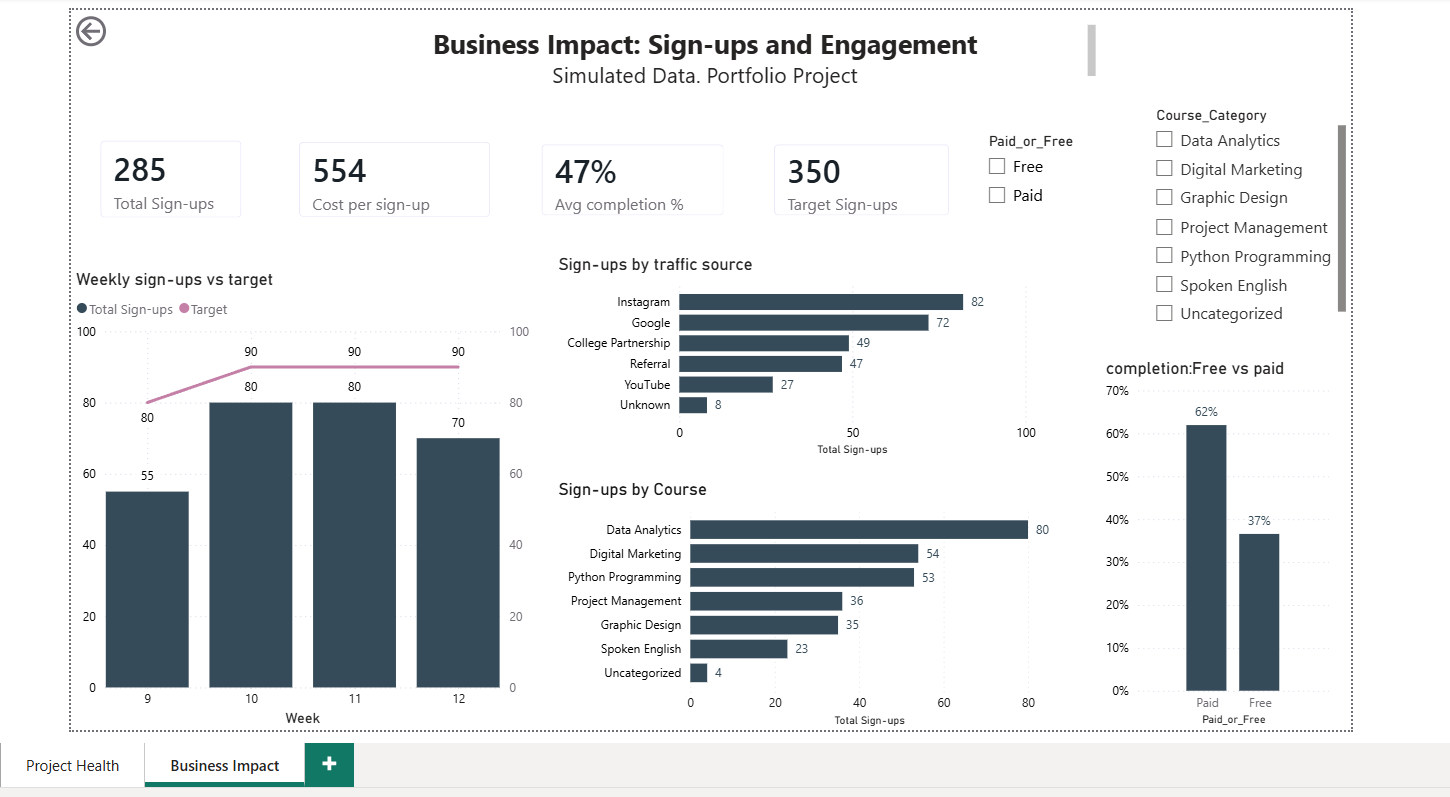

This screenshot's page, from the dashboard's own definition file:
{"tool":"powerbi","page":{"name":"Business Impact","canvas":[1280,720],"ordinal":1},"visuals":[{"type":"textbox","box":[246.2,10,783.8,81.2],"z":0},{"type":"cardVisual","fields":{"Data":["Schedule.Total Sign-ups"]},"box":[12.2,113.4,175.6,111.1],"z":1000},{"type":"cardVisual","fields":{"Data":["Schedule.Cost per sign-up"]},"box":[211.2,114.8,225,109.8],"z":2000},{"type":"cardVisual","fields":{"Data":["Schedule.Avg completion %"]},"box":[454.1,117.5,216.8,105.7],"z":3000},{"type":"cardVisual","fields":{"Data":["Sum(Targets.Target Sign-ups (scaled sample))"]},"box":[686,117.5,209.9,105.7],"z":4000},{"type":"actionButton","box":[-0.1,0.9,100,40],"z":5000},{"type":"lineClusteredColumnComboChart","title":"Weekly sign-ups vs target","fields":{"Category":["Targets.Week"],"Y":["Schedule.Total Sign-ups"],"Y2":["Sum(Targets.Target Sign-ups (scaled sample))"]},"box":[-0.1,258.9,463.8,462.4],"z":6000},{"type":"clusteredBarChart","title":"Sign-ups by traffic source","fields":{"Category":["signups_clean.Traffic_Source"],"Y":["Schedule.Total Sign-ups"]},"box":[482.9,243.8,487.1,207.2],"z":7000},{"type":"clusteredColumnChart","title":"completion:Free vs paid","fields":{"Category":["signups_clean.Paid_or_Free"],"Y":["Schedule.Avg completion %"]},"box":[1030.4,348,233.3,373.2],"z":8000},{"type":"slicer","fields":{"Values":["signups_clean.Course_Category"]},"box":[1073,91.4,207.2,227.8],"z":9000},{"type":"slicer","fields":{"Values":["signups_clean.Paid_or_Free"]},"box":[905.6,117.5,155.1,105.7],"z":10000},{"type":"barChart","title":" Sign-ups by Course","fields":{"Category":["signups_clean.Course_Category"],"Y":["Schedule.Total Sign-ups"]},"box":[482.9,468.8,507.7,252.5],"z":11000}]}

Visuals, with their boxes on the page's 1280x720 design canvas (x1, y1, x2, y2). These are canvas units, not pixel positions in the 1450x797 screenshot, which may show the page scaled, cropped or inside an application window:
textbox: box=[246, 10, 1030, 91]
cardVisual - Schedule.Total Sign-ups: box=[12, 113, 188, 224]
cardVisual - Schedule.Cost per sign-up: box=[211, 115, 436, 225]
cardVisual - Schedule.Avg completion %: box=[454, 118, 671, 223]
cardVisual - Sum(Targets.Target Sign-ups (scaled sample)): box=[686, 118, 896, 223]
actionButton: box=[0, 1, 100, 41]
"Weekly sign-ups vs target" lineClusteredColumnComboChart: box=[0, 259, 464, 721]
"Sign-ups by traffic source" clusteredBarChart: box=[483, 244, 970, 451]
"completion:Free vs paid" clusteredColumnChart: box=[1030, 348, 1264, 721]
slicer - signups_clean.Course_Category: box=[1073, 91, 1280, 319]
slicer - signups_clean.Paid_or_Free: box=[906, 118, 1061, 223]
" Sign-ups by Course" barChart: box=[483, 469, 991, 721]
